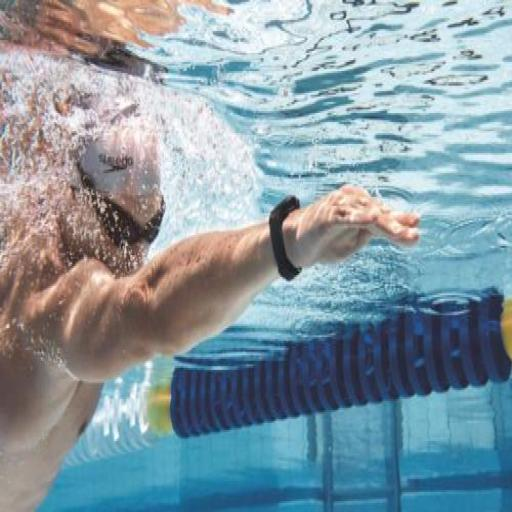swimming: (0, 98, 421, 510)
